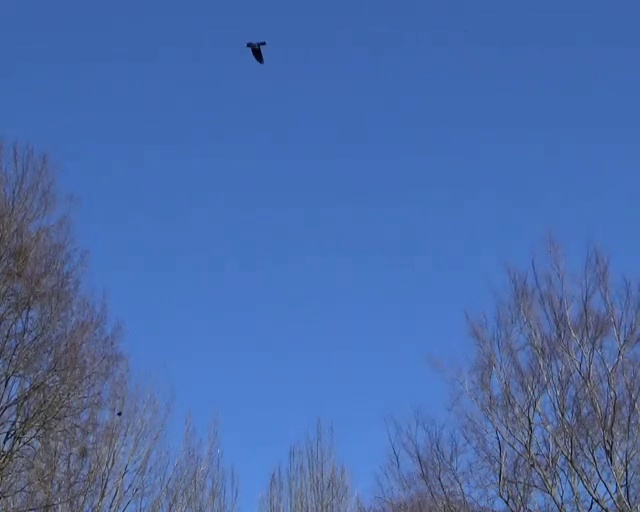BIRD: (246, 40, 266, 64)
